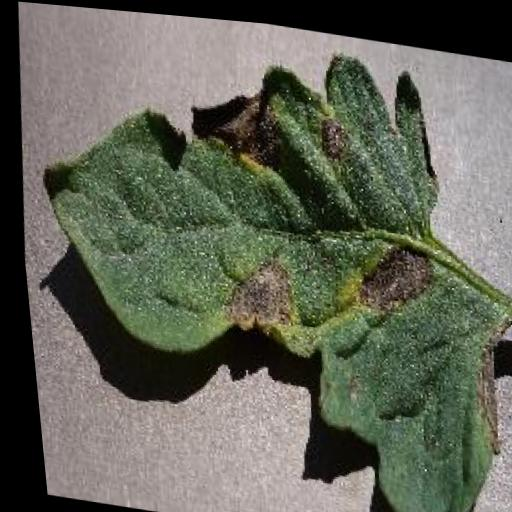Early Blight: (4, 4, 512, 512)
